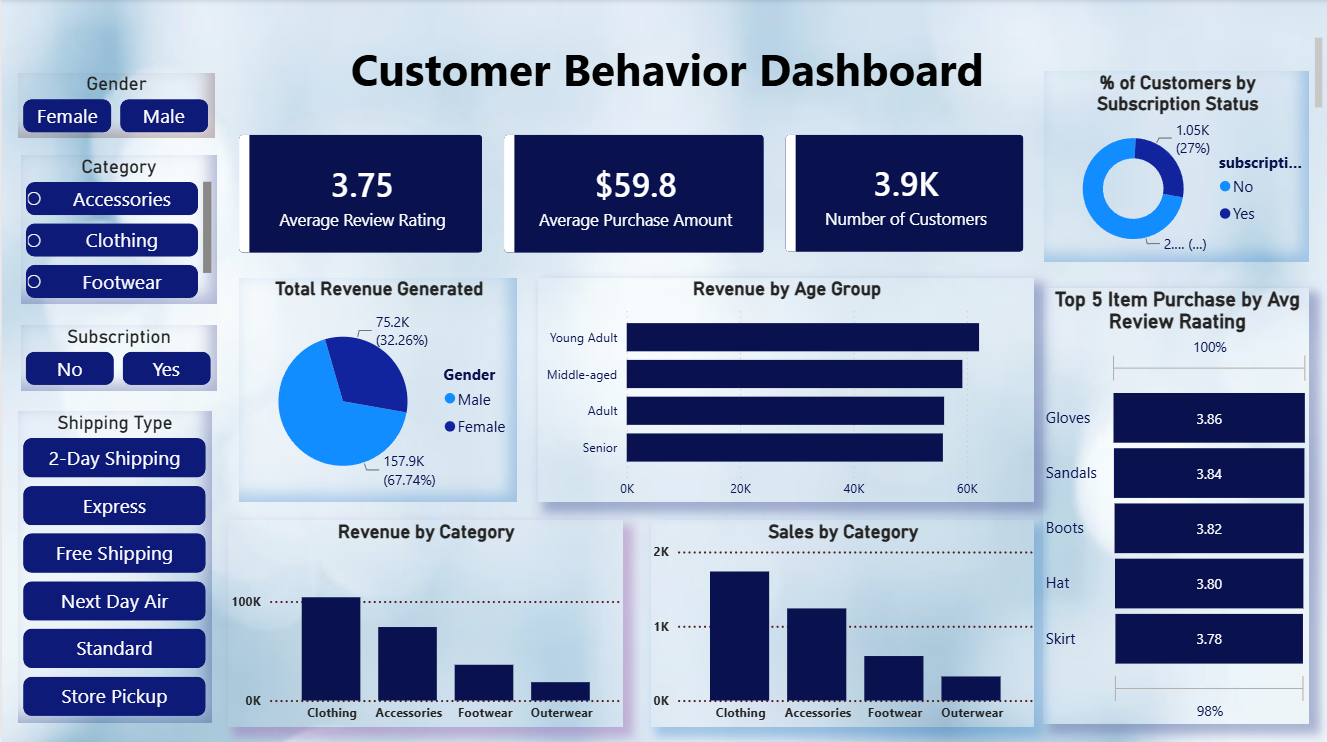

Layout of this report page (visuals, bound fields, positions):
{"tool":"powerbi","page":{"name":"Page 1","canvas":[1280,720],"ordinal":0},"visuals":[{"type":"cardVisual","fields":{"Data":["public customer.Average Review Rating"]},"box":[218.4,120.9,255.5,134.6],"z":0},{"type":"cardVisual","fields":{"Data":["public customer.Number of Customers"]},"box":[745.9,120.9,250,133.2],"z":1000},{"type":"donutChart","title":"% of Customers by Subscription Status","fields":{"Category":["public customer.subscription_status"],"Y":["CountNonNull(public customer.customer_id)"]},"box":[1006.2,69.8,255.4,183.9],"z":2000},{"type":"clusteredColumnChart","title":"Revenue by Category","fields":{"Category":["public customer.category"],"Y":["Sum(public customer.purchase_amount)"]},"box":[218.4,502.8,380.5,199.2],"z":3000},{"type":"clusteredColumnChart","title":"Sales by Category","fields":{"Category":["public customer.category"],"Y":["CountNonNull(public customer.purchase_amount)"]},"box":[626.4,502.8,369.5,199.2],"z":4000},{"type":"advancedSlicerVisual","title":"Gender","fields":{"Values":["public customer.gender"]},"box":[15.1,71.4,189.6,63.2],"z":5000},{"type":"advancedSlicerVisual","title":"Category","fields":{"Values":["public customer.category"]},"box":[17.9,151.1,189.6,142.9],"z":6000},{"type":"advancedSlicerVisual","title":"Shipping Type","fields":{"Values":["public customer.shipping_type"]},"box":[15.1,398.4,186.8,300.8],"z":7000},{"type":"clusteredBarChart","title":"Revenue by Age Group","fields":{"Y":["Sum(public customer.purchase_amount)"],"Category":["public customer.age_group"]},"box":[517.9,269.2,478,217],"z":8000},{"type":"textbox","box":[0,32.3,1280.3,88.5],"z":9000},{"type":"cardVisual","fields":{"Data":["public customer.Average Purchase Amount"]},"box":[473.9,120.9,272,134.6],"z":10000},{"type":"pieChart","title":"Total Revenue Generated ","fields":{"Category":["public customer.gender"],"Y":["Sum(public customer.purchase_amount)"]},"box":[229.4,269.2,267.9,217],"z":11000},{"type":"advancedSlicerVisual","title":"Subscription","fields":{"Values":["public customer.subscription_status"]},"box":[17.9,314.6,189.6,63.2],"z":12000},{"type":"funnel","title":"Top 5 Item Purchase by  Avg Review Raating","fields":{"Category":["public customer.item_purchased"],"Y":["public customer.Average Review Rating"]},"box":[1004.5,279.2,257.1,420.5],"z":12001}]}

Visuals, with their boxes in screenshot pixels (x1, y1, x2, y2), scaled from the page's 1280x720 canvas onto the 1327x742 screenshot:
cardVisual - public customer.Average Review Rating: 226:125:491:263
cardVisual - public customer.Number of Customers: 773:125:1032:262
"% of Customers by Subscription Status" donutChart: 1043:72:1308:261
"Revenue by Category" clusteredColumnChart: 226:518:621:723
"Sales by Category" clusteredColumnChart: 649:518:1032:723
"Gender" advancedSlicerVisual: 16:74:212:139
"Category" advancedSlicerVisual: 19:156:215:303
"Shipping Type" advancedSlicerVisual: 16:411:209:721
"Revenue by Age Group" clusteredBarChart: 537:277:1032:501
textbox: 0:33:1326:124
cardVisual - public customer.Average Purchase Amount: 491:125:773:263
"Total Revenue Generated " pieChart: 238:277:516:501
"Subscription" advancedSlicerVisual: 19:324:215:389
"Top 5 Item Purchase by  Avg Review Raating" funnel: 1041:288:1308:721
